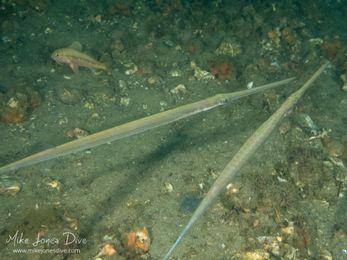Fistularia commersonii: (0, 67, 288, 160), (175, 62, 317, 247)
